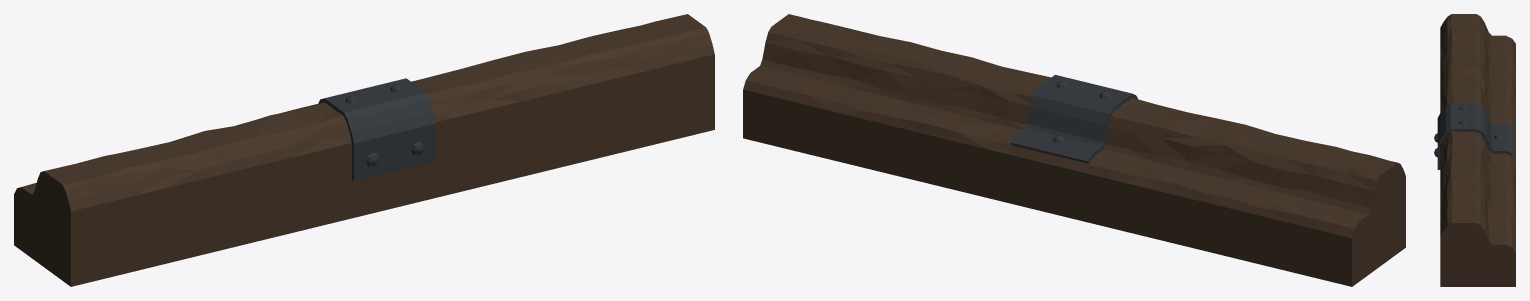
Rendered from SM_MapFrame002_SegMid.fbx.
3 views of the same model, side by side, from view 1: azimuth 30°, elevation 25°; view 2: azimuth 150°, elevation 25°; view 3: azimuth 270°, elevation 25° (orthographic). The views are drawn at different scales.
Parts seen in each view (by area): view 1: SM_MapFrame002_SegMid; view 2: SM_MapFrame002_SegMid; view 3: SM_MapFrame002_SegMid.
Boxes of the visible parts, box(x1,y1,x2,y2) form: SM_MapFrame002_SegMid: box(14, 14, 714, 286); SM_MapFrame002_SegMid: box(743, 14, 1405, 286); SM_MapFrame002_SegMid: box(1434, 14, 1515, 286).
Bounding box in the file's own units: 157 × 26 × 24.4.
